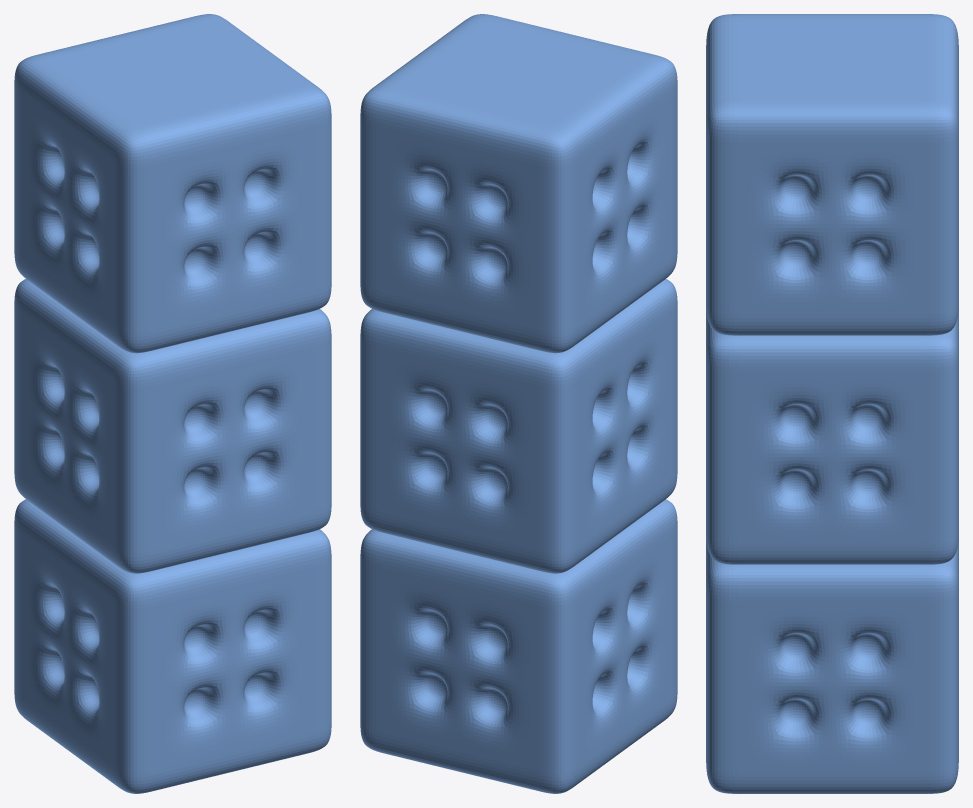
File: blue_1_3_1.fbx
The picture shows the model from 3 angles, left to right: view 1: azimuth 30°, elevation 25°; view 2: azimuth 150°, elevation 25°; view 3: azimuth 270°, elevation 25°; orthographic projection. The views are drawn at different scales.
Parts seen in each view (by area): view 1: Cube.003, Cube.001, Cube.002; view 2: Cube.003, Cube.001, Cube.002; view 3: Cube.003, Cube.001, Cube.002.
Boxes of the visible parts, bbox=[...] form: Cube.003: bbox=[14, 14, 331, 353]; Cube.001: bbox=[14, 499, 331, 793]; Cube.002: bbox=[14, 279, 331, 573]; Cube.003: bbox=[360, 14, 677, 353]; Cube.001: bbox=[360, 499, 677, 793]; Cube.002: bbox=[360, 279, 677, 573]; Cube.003: bbox=[706, 14, 958, 335]; Cube.001: bbox=[706, 534, 958, 793]; Cube.002: bbox=[706, 305, 958, 564].
Bounding box in the file's own units: 200 × 600 × 200.
